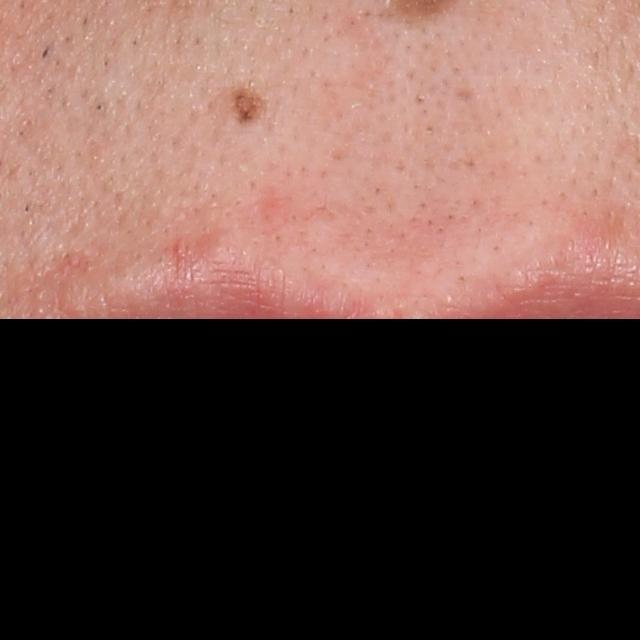nevus: (231, 86, 266, 127)
